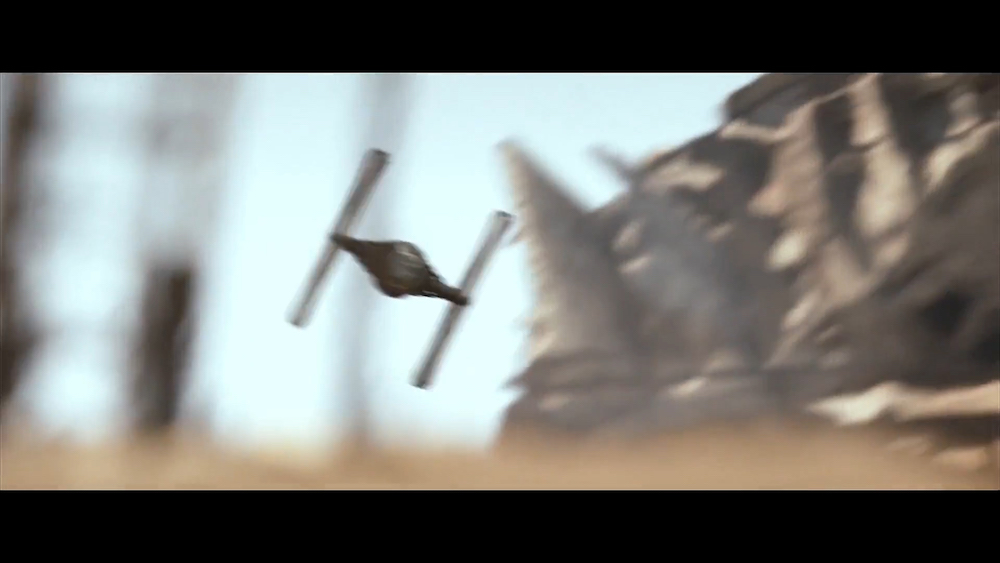Tie Fighter: (287, 148, 517, 392)
